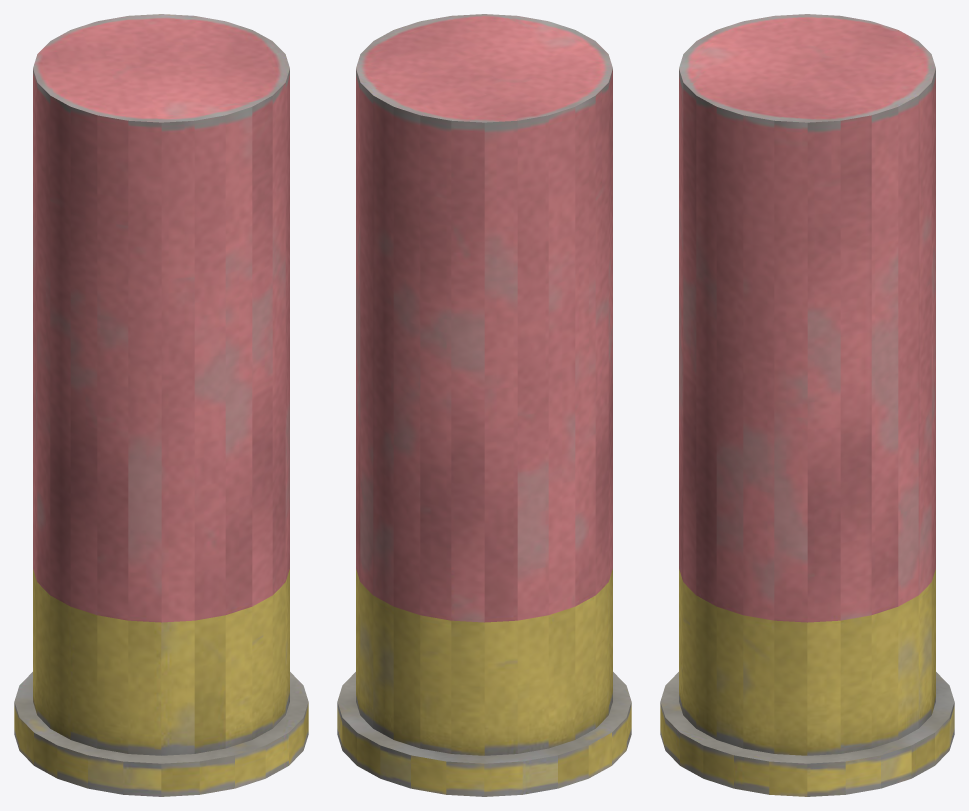
The model's file is ammo_shotgun.glb.
The picture shows the model from 3 angles, left to right: view 1: azimuth 30°, elevation 25°; view 2: azimuth 150°, elevation 25°; view 3: azimuth 270°, elevation 25°; orthographic projection.
Parts seen in each view (by area): view 1: ammo_shotgun; view 2: ammo_shotgun; view 3: ammo_shotgun.
Part boxes in pixels (x1,y1,x2,y2): ammo_shotgun: (14,14,308,796); ammo_shotgun: (337,14,631,796); ammo_shotgun: (660,14,954,796).
Size of the model in its own units: 0.0306 by 0.0766 by 0.0306.
1 material, 1 textured.
